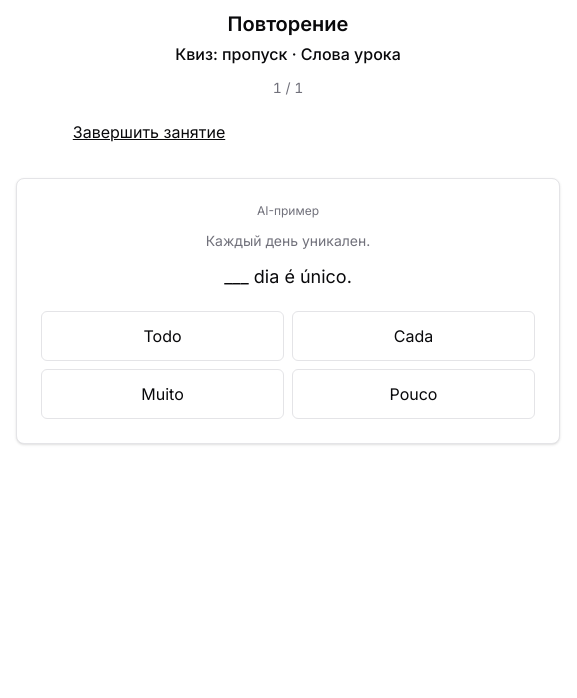
Scenario: QuizSession final screen — writing exercise › в скоупе урока доступны только фактические ошибки
Click the button "Cada". click: (414, 336)
box: [292,311,535,361]
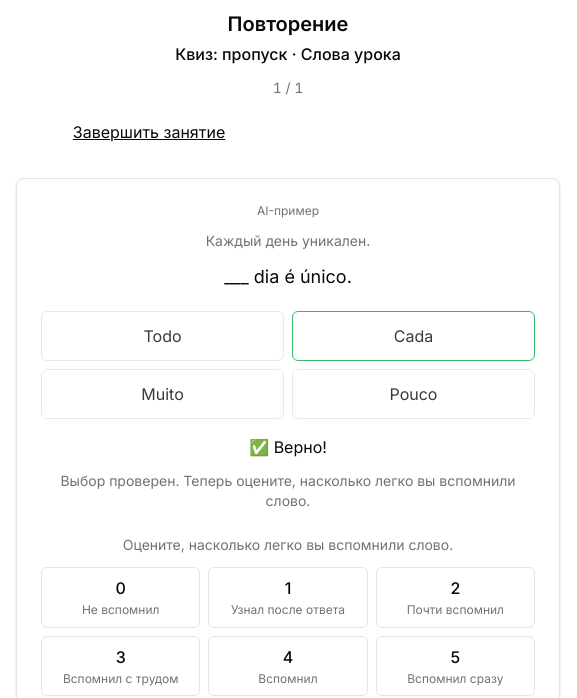
Click the button "2 Почти вспомнил". click: (455, 597)
box: [376,567,535,628]
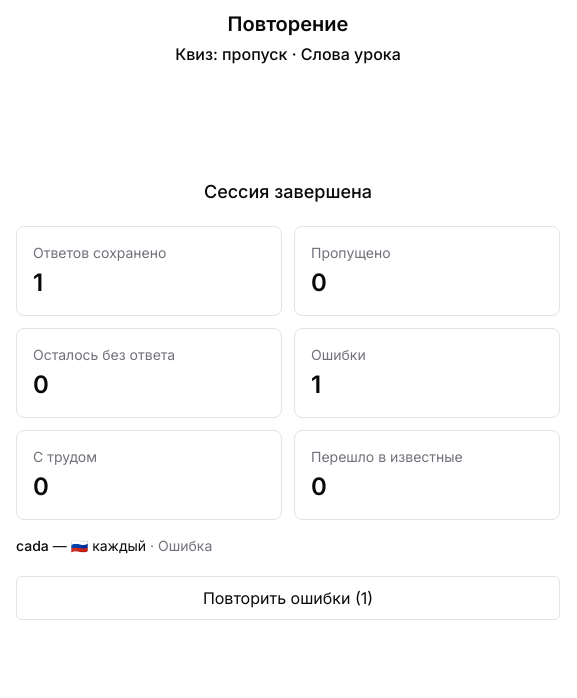
Expected: the button "Повторить ошибки (1)" is shown, [16,576,560,620]
